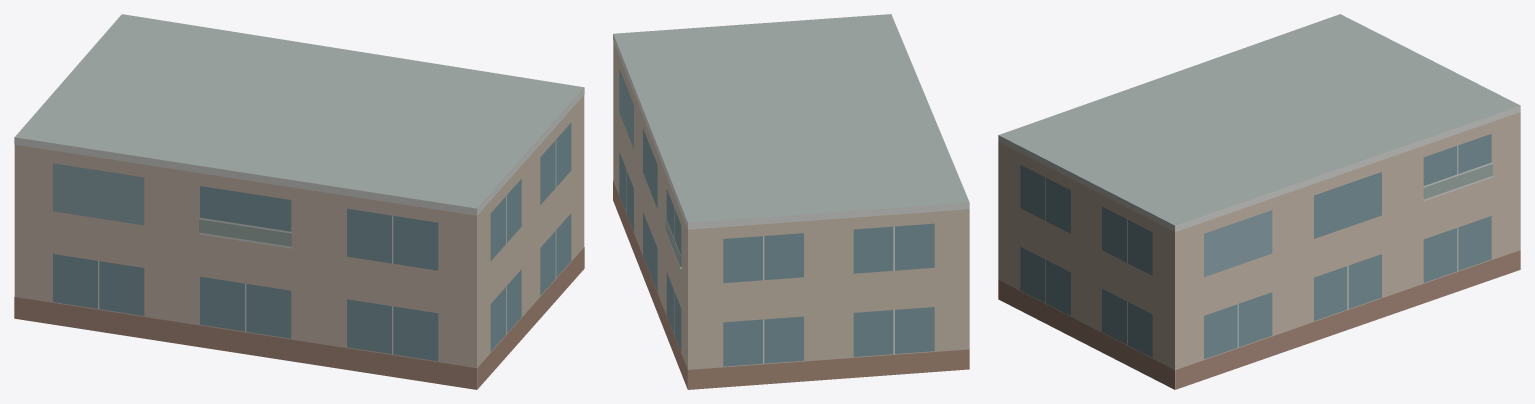
File: survey-upis-32832948.glb
The picture shows the model from 3 angles, left to right: view 1: azimuth 30°, elevation 25°; view 2: azimuth 150°, elevation 25°; view 3: azimuth 270°, elevation 25°; orthographic projection. The views are drawn at different scales.
Parts seen in each view (by area): view 1: survey-upis-32832948.tmp; view 2: survey-upis-32832948.tmp; view 3: survey-upis-32832948.tmp.
Boxes of the visible parts, <box> form: survey-upis-32832948.tmp: <box>14,14,584,389</box>; survey-upis-32832948.tmp: <box>613,14,969,389</box>; survey-upis-32832948.tmp: <box>998,14,1520,389</box>.
Bounding box in the file's own units: 16.87 × 6.1 × 17.58.
